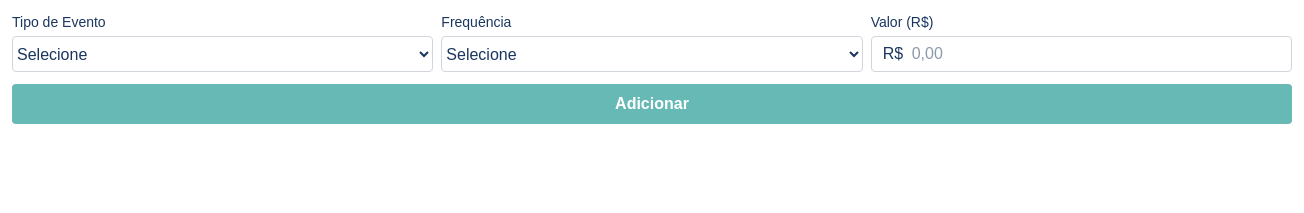
EventForm › should show success popup after successful submission
The width and height of the screenshot is (1304, 213).
Select "Adicionar renda" in the dropdown below "Tipo de Evento" at (223, 54), box 12,36 -> 433,72
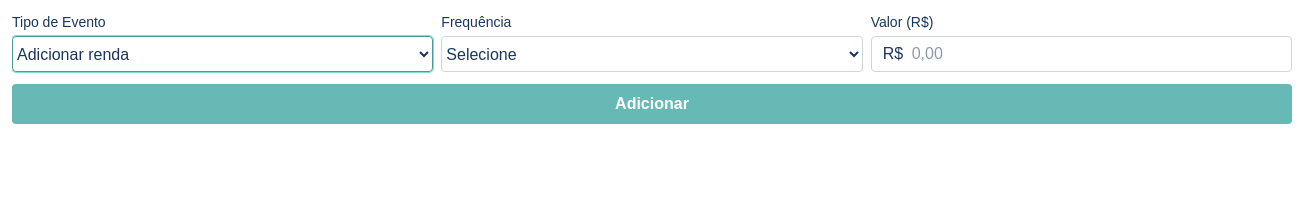
Select "Única" in the dropdown below "Frequência" at (652, 54), box 441,36 -> 863,72
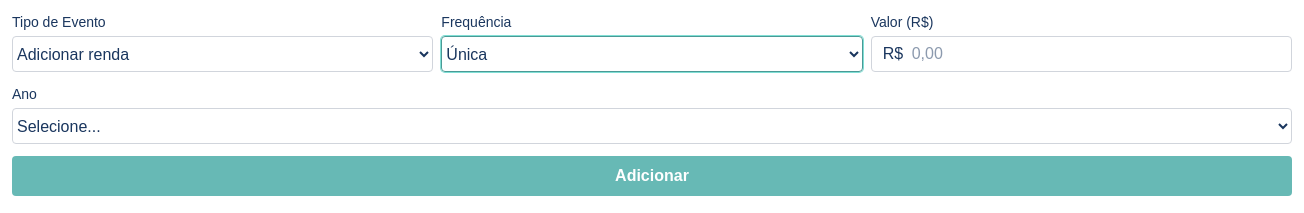
expect the dropdown below "Ano" is shown: met
Select "2024" in the dropdown below "Ano" at (652, 126), box 12,108 -> 1292,144
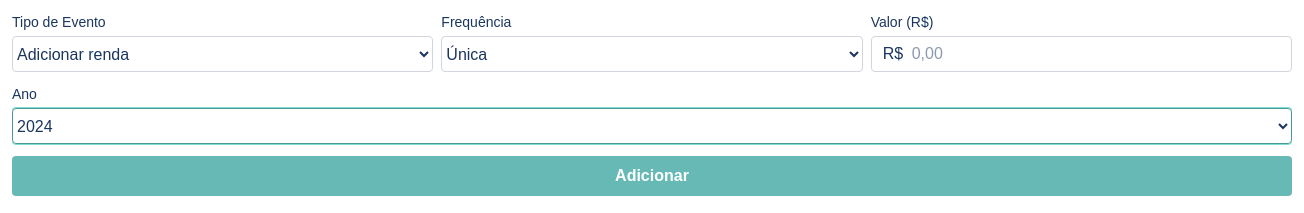
Type "1000,00" into the field at (1081, 54), box 871,36 -> 1292,72
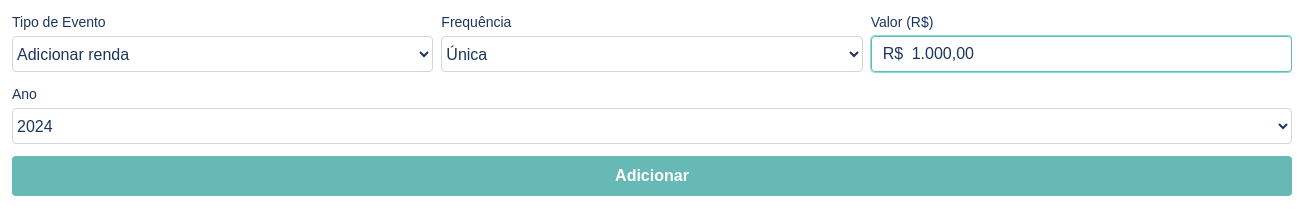
Click the button "Adicionar" at (652, 176), box 12,156 -> 1292,196
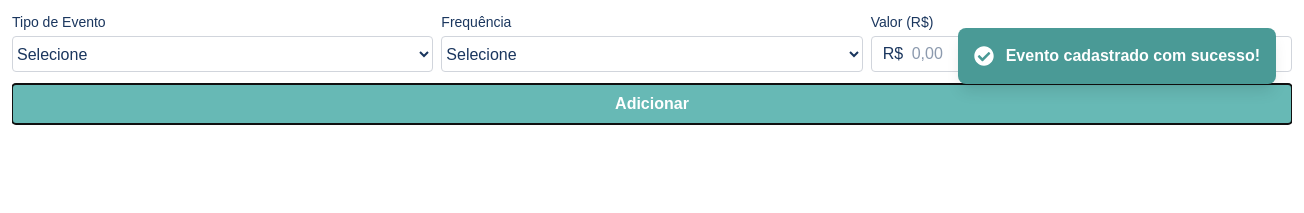
expect the text "Evento cadastrado com sucesso!" is shown: met, box 1006,44 -> 1260,68
